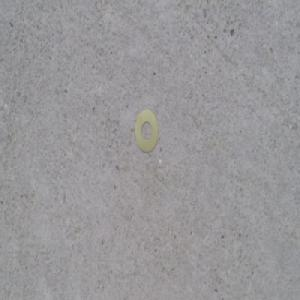Washer: (136, 108, 161, 155)
